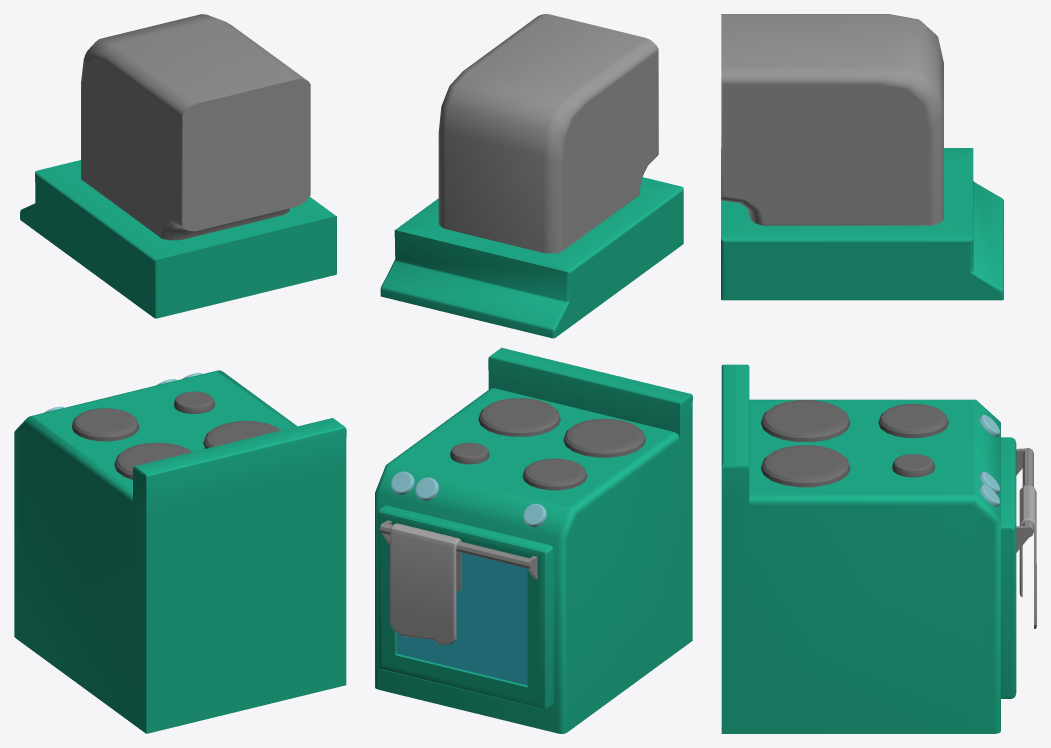
File: GasStove.FBX
3 renders of one model, left to right at view 1: azimuth 30°, elevation 25°; view 2: azimuth 150°, elevation 25°; view 3: azimuth 270°, elevation 25°, orthographic. The views are drawn at different scales.
Visible parts, largest first — view 1: GasStove; view 2: GasStove; view 3: GasStove.
Boxes of the visible parts, x1=… form: GasStove: x1=14, y1=14, x2=346, y2=733; GasStove: x1=375, y1=14, x2=692, y2=733; GasStove: x1=721, y1=14, x2=1036, y2=733.
Size of the model in its own units: 13.92 by 41.04 by 18.29.
